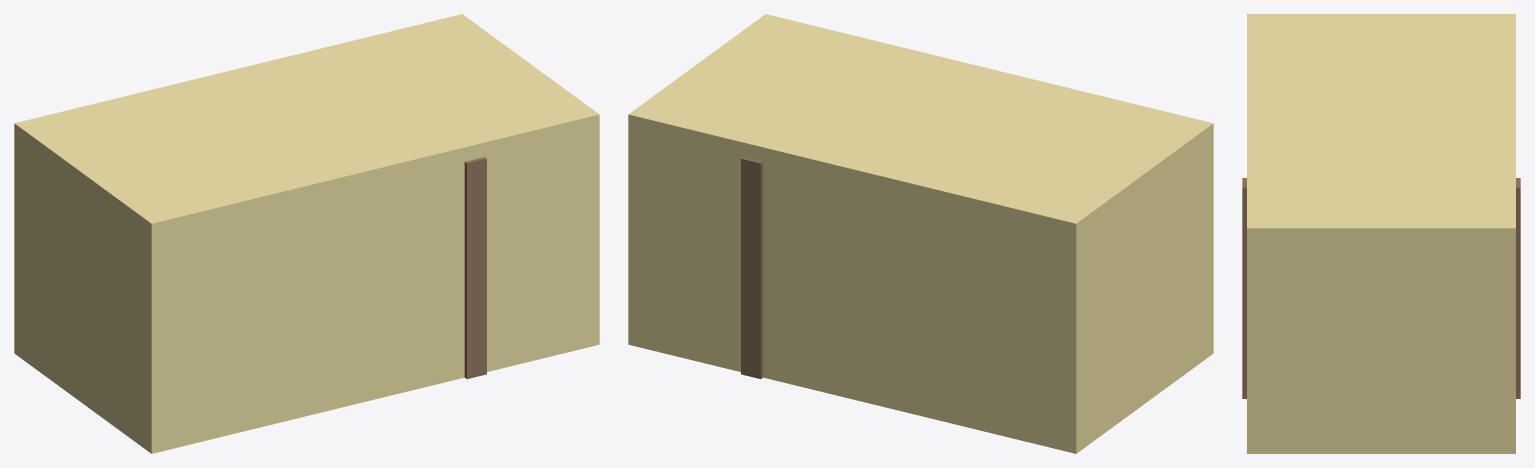
Rendered from Prop_Live_AMF_HayBale_V15.glb.
3 renders of one model, left to right at view 1: azimuth 30°, elevation 25°; view 2: azimuth 150°, elevation 25°; view 3: azimuth 270°, elevation 25°, orthographic.
Parts seen in each view (by area): view 1: Prop_Live_AMF_HayBale_V15; view 2: Prop_Live_AMF_HayBale_V15; view 3: Prop_Live_AMF_HayBale_V15.
Boxes of the visible parts, x1,y1,x2,y2 form: Prop_Live_AMF_HayBale_V15: [14, 14, 599, 453]; Prop_Live_AMF_HayBale_V15: [628, 14, 1213, 453]; Prop_Live_AMF_HayBale_V15: [1242, 14, 1520, 453].
Size of the model in its own units: 1.13 by 0.555 by 0.62.
